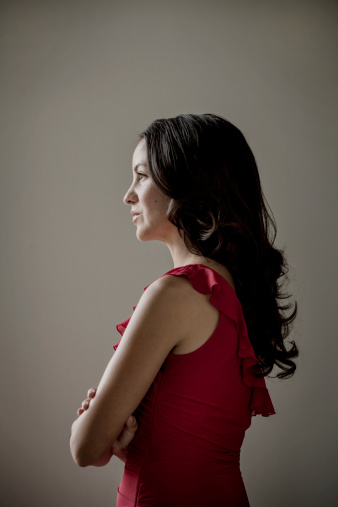em pe: (56, 95, 293, 507)
